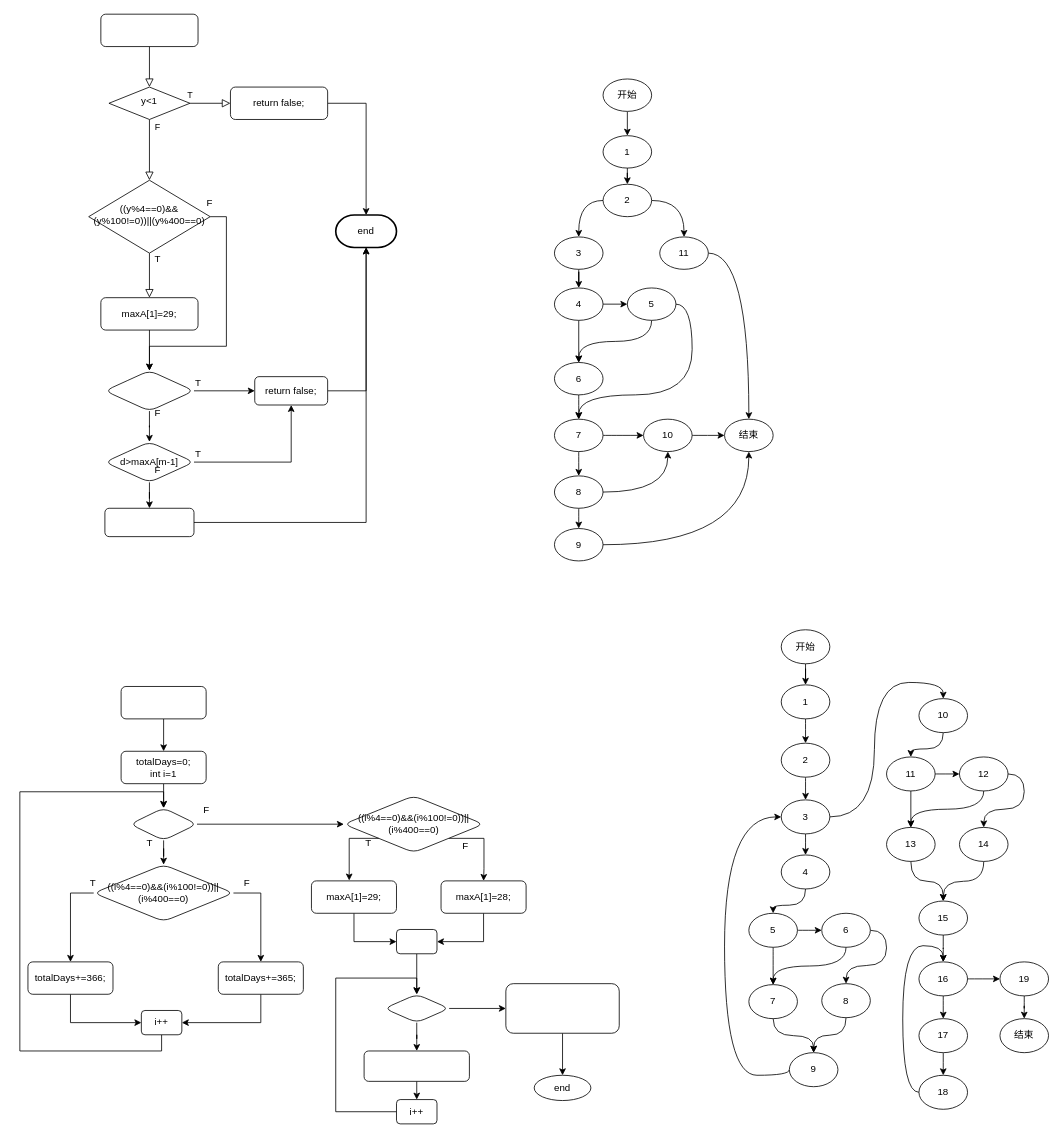
The diagram is 1063 pixels wide and 1138 high, and some of its shapes have lost their labels. The shapes that lost their labels are listed below. From the top down, each one's centre as x and y in pixels, then its label:
At point 149,30: "int y ,int m,int d".
At point 149,390: "m<0||m>12".
At point 149,522: "return true;".
At point 163,702: "int y,int m,int d".
At point 163,823: "i<y".
At point 416,941: "int i=1".
At point 416,1008: "i<m".
At point 562,1008: "totalDays+=(d-1); maxA[1]=28; return (totalDays%7);".
At point 416,1065: "totalDays+=maxA[i-1];".
